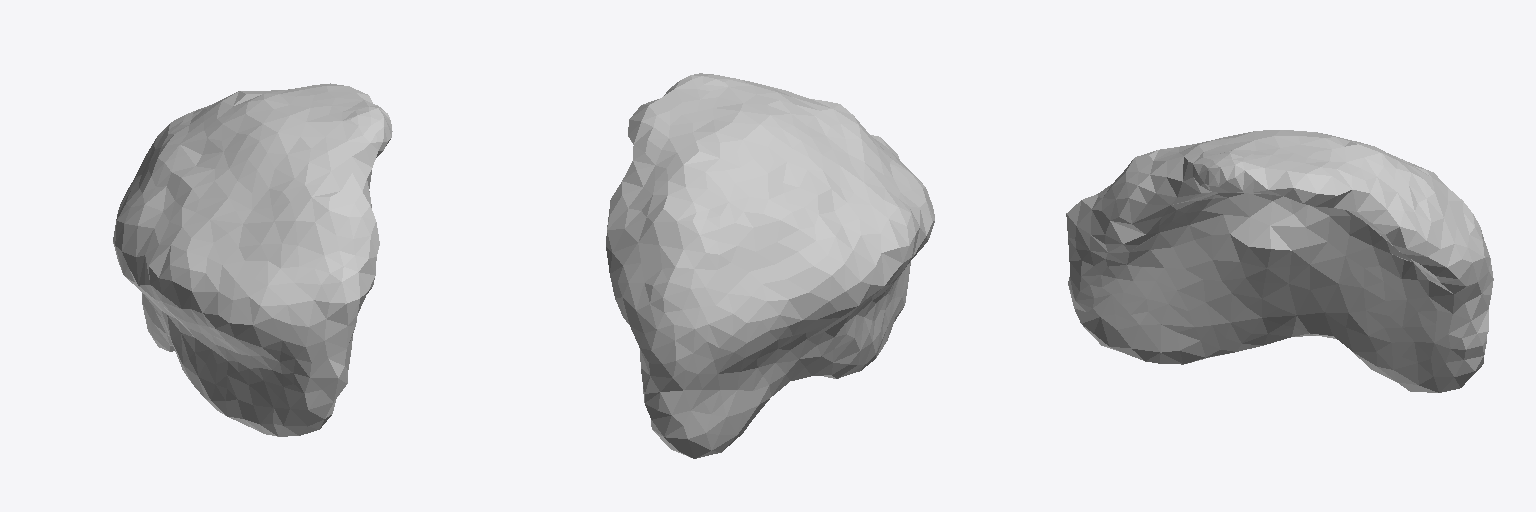
The model's file is Cover.obj.
3 views of the same model, side by side, from view 1: azimuth 30°, elevation 25°; view 2: azimuth 150°, elevation 25°; view 3: azimuth 270°, elevation 25° (orthographic).
Visible parts, largest first — view 1: Cover_Icosphere.006; view 2: Cover_Icosphere.006; view 3: Cover_Icosphere.006.
Boxes of the visible parts, x1=… form: Cover_Icosphere.006: x1=113, y1=83, x2=392, y2=436; Cover_Icosphere.006: x1=606, y1=73, x2=934, y2=458; Cover_Icosphere.006: x1=1066, y1=130, x2=1493, y2=392.
Size of the model in its own units: 8.77 by 9.78 by 13.5.